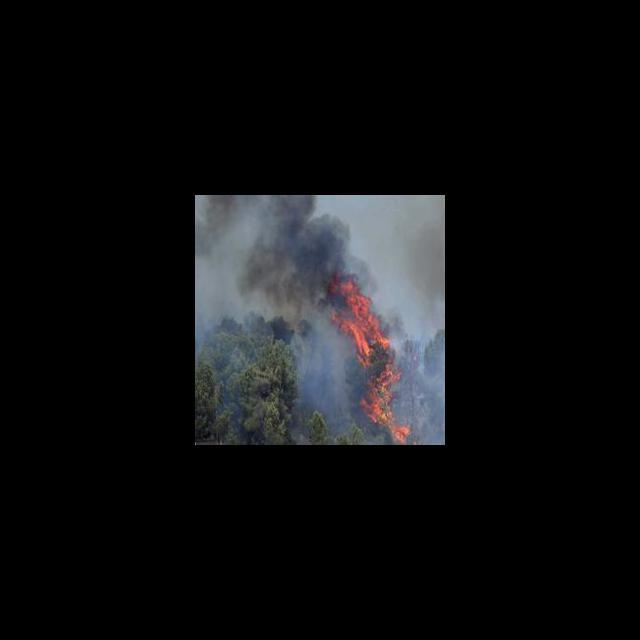Fire: (322, 268, 422, 442)
Smoke: (196, 195, 318, 313)
